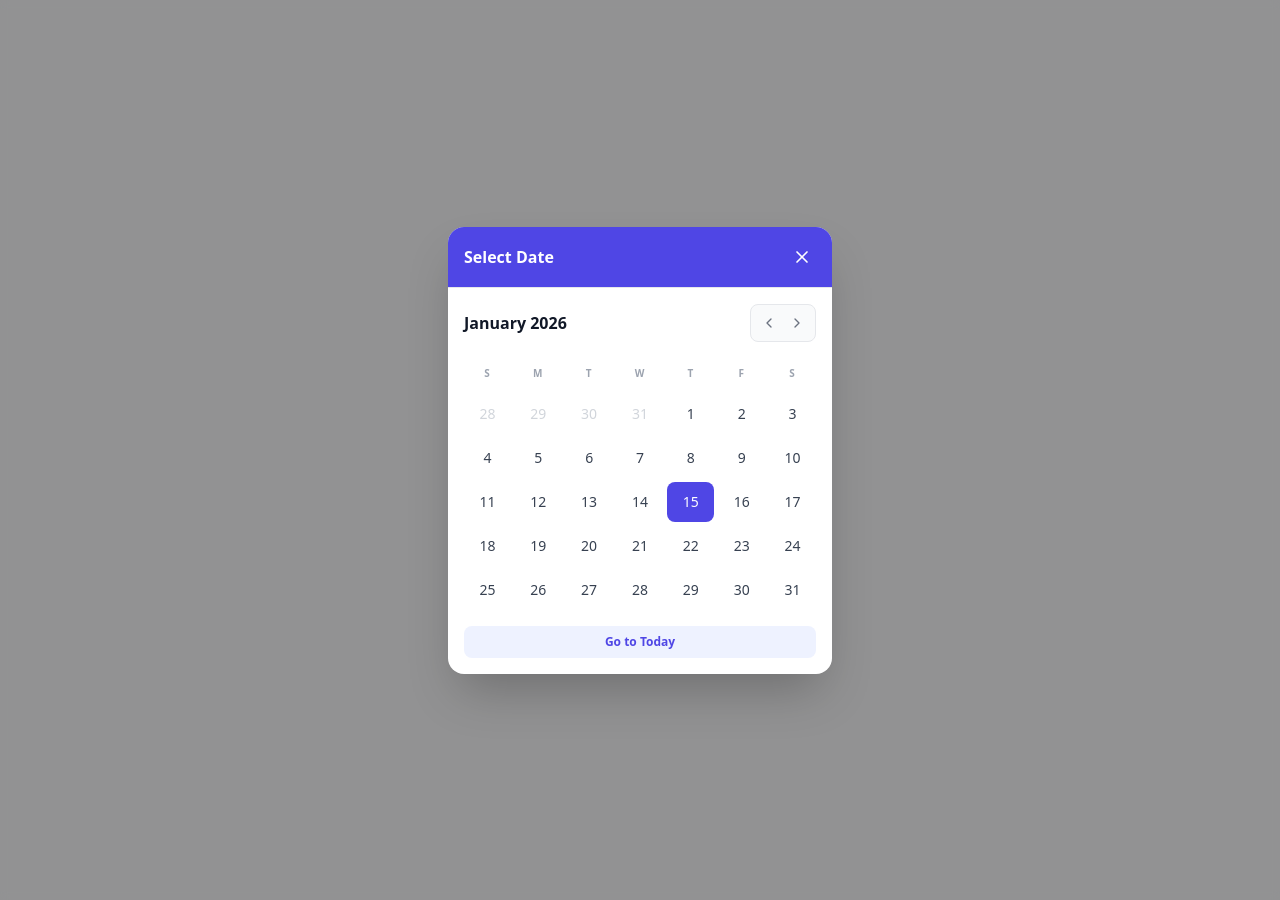
Test: DatePicker › navigates to previous month
The width and height of the screenshot is (1280, 900).
Click the button titled "Previous Month".
click(769, 322)  # box [755,308,783,336]
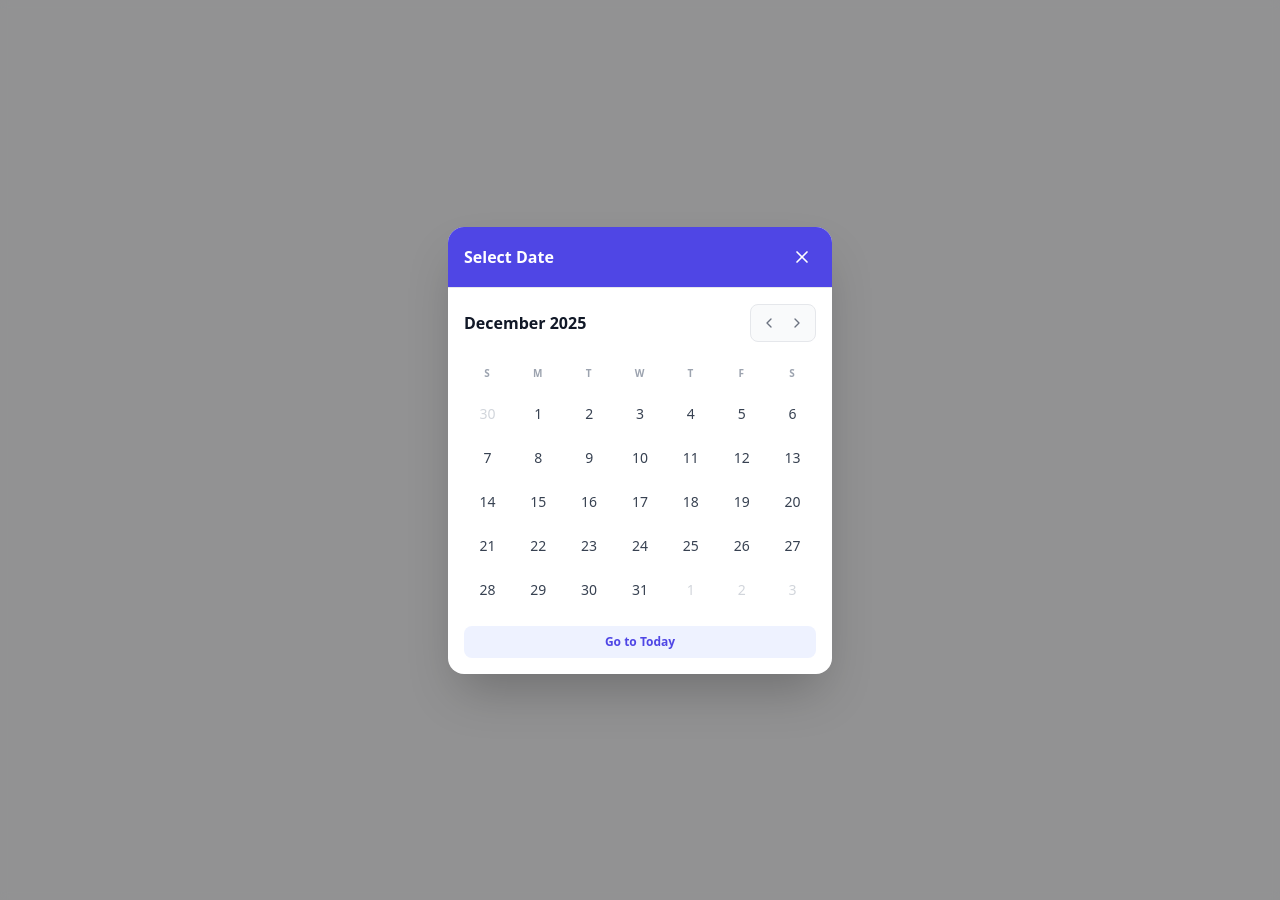
Result: the text "December 2025" is shown at [464,310,586,334]
